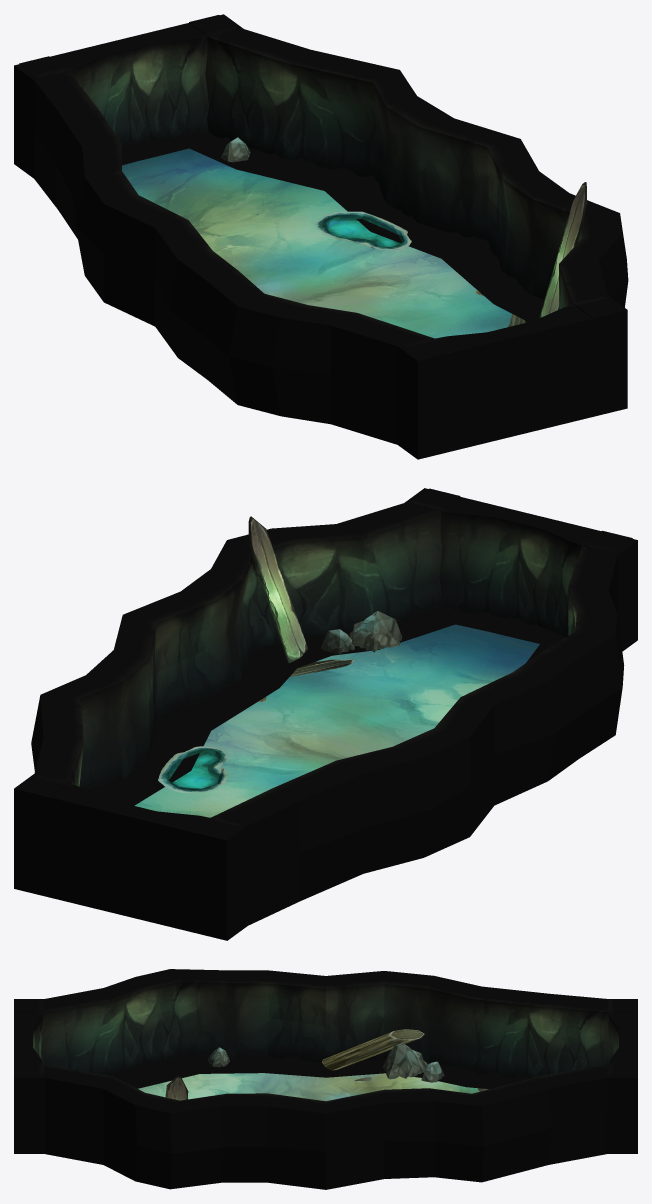
File: Dungeon_073_Road_002.fbx
The picture shows the model from 3 angles, top to bottom: view 1: azimuth 30°, elevation 25°; view 2: azimuth 150°, elevation 25°; view 3: azimuth 270°, elevation 25°; orthographic projection. The views are drawn at different scales.
Visible parts, largest first — view 1: Dun_073_Road_002_wall, Dun_073_Door_002 (×2), Dun_073_Road_002_ground, Dun_073_Road_002_shadow, Dun_073_OB_Asiato01, Dun_073_OB_Rubble, Dun_073_Door_002_shadow; view 2: Dun_073_Road_002_wall, Dun_073_Door_002 (×2), Dun_073_Road_002_ground, Dun_073_Road_002_shadow, Dun_073_OB_Rubble, Dun_073_OB_Asiato01, Dun_073_OB_Stone01, Dun_073_Door_002_shadow; view 3: Dun_073_Road_002_wall, Dun_073_Road_002_shadow, Dun_073_Road_002_ground, Dun_073_Door_002 (×2), Dun_073_OB_Rubble, Dun_073_OB_Stone01.
Part boxes in pixels (x1,y1,x2,y2): Dun_073_Road_002_wall: (14,14,628,459); Dun_073_Door_002 (×2): (19,15,622,450); Dun_073_Road_002_ground: (122,148,511,338); Dun_073_Road_002_shadow: (169,132,544,322); Dun_073_OB_Asiato01: (315,211,411,250); Dun_073_OB_Rubble: (539,182,587,318); Dun_073_Door_002_shadow: (122,138,188,165); Dun_073_Road_002_wall: (14,488,637,940); Dun_073_Door_002 (×2): (19,488,632,931); Dun_073_Road_002_ground: (134,624,539,817); Dun_073_Road_002_shadow: (88,607,565,805); Dun_073_OB_Rubble: (248,516,308,663); Dun_073_OB_Asiato01: (158,746,229,793); Dun_073_OB_Stone01: (321,611,402,654); Dun_073_Door_002_shadow: (456,612,551,643); Dun_073_Road_002_wall: (14,969,637,1189); Dun_073_Road_002_shadow: (110,1053,530,1089); Dun_073_Road_002_ground: (138,1073,479,1101); Dun_073_Door_002 (×2): (14,1000,637,1075); Dun_073_OB_Rubble: (165,1029,424,1100); Dun_073_OB_Stone01: (208,1043,444,1082).
Size of what is drawn, in the model's own units: 8.54 by 2.73 by 15.
